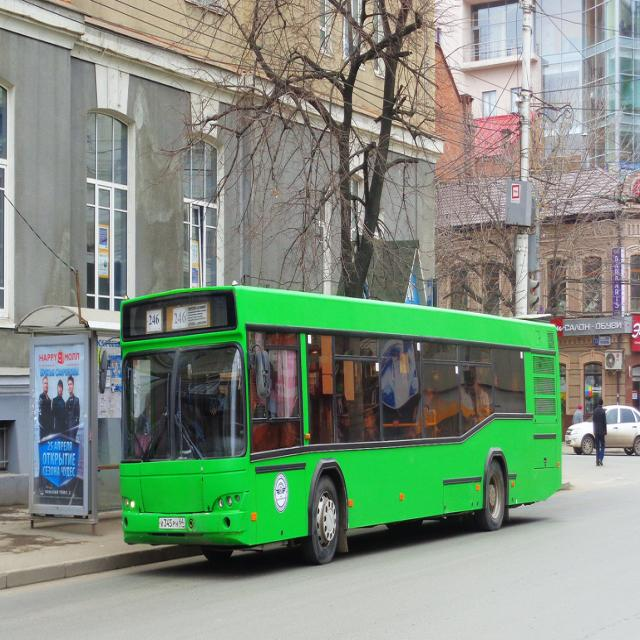number-of-bus: (148, 312, 162, 330), (175, 310, 188, 327)
